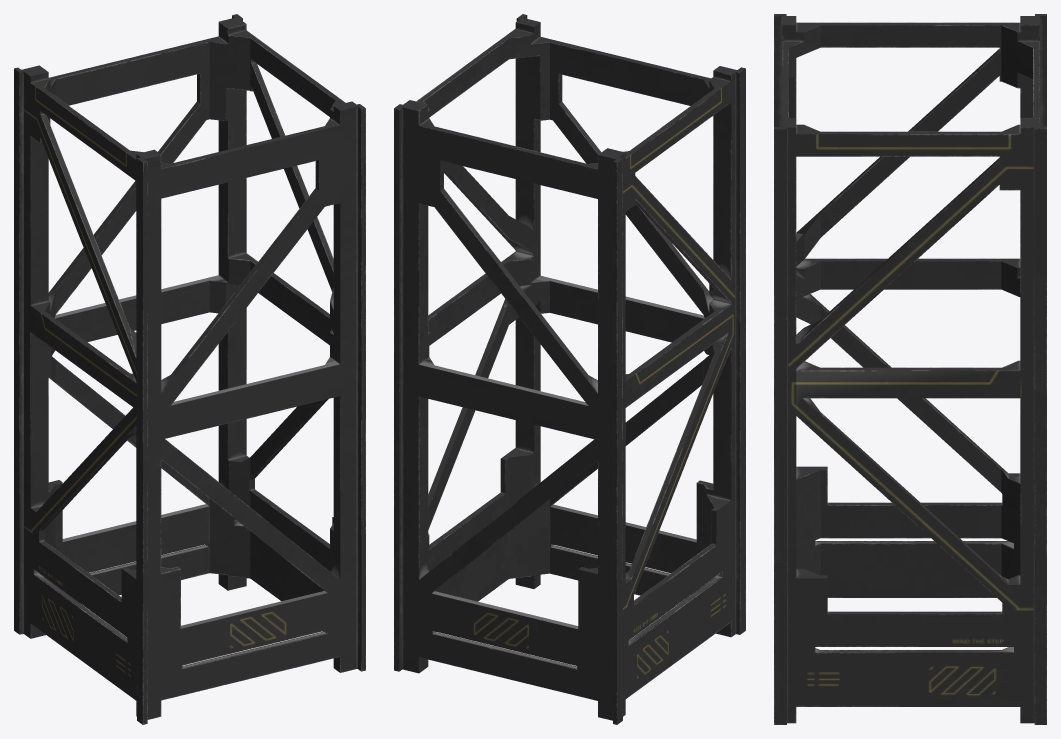
File: c057-opt.glb
3 views of the same model, side by side, from view 1: azimuth 30°, elevation 25°; view 2: azimuth 150°, elevation 25°; view 3: azimuth 270°, elevation 25° (orthographic). The views are drawn at different scales.
Visible parts, largest first — view 1: Cube.057; view 2: Cube.057; view 3: Cube.057.
Part boxes in pixels (x1=…): Cube.057: x1=14, y1=14, x2=365, y2=724; Cube.057: x1=394, y1=14, x2=745, y2=724; Cube.057: x1=774, y1=14, x2=1046, y2=724.
Bounding box in the file's own units: 0.8592 × 2.07 × 0.8592.
Materials: 1 (1 with a texture image).
